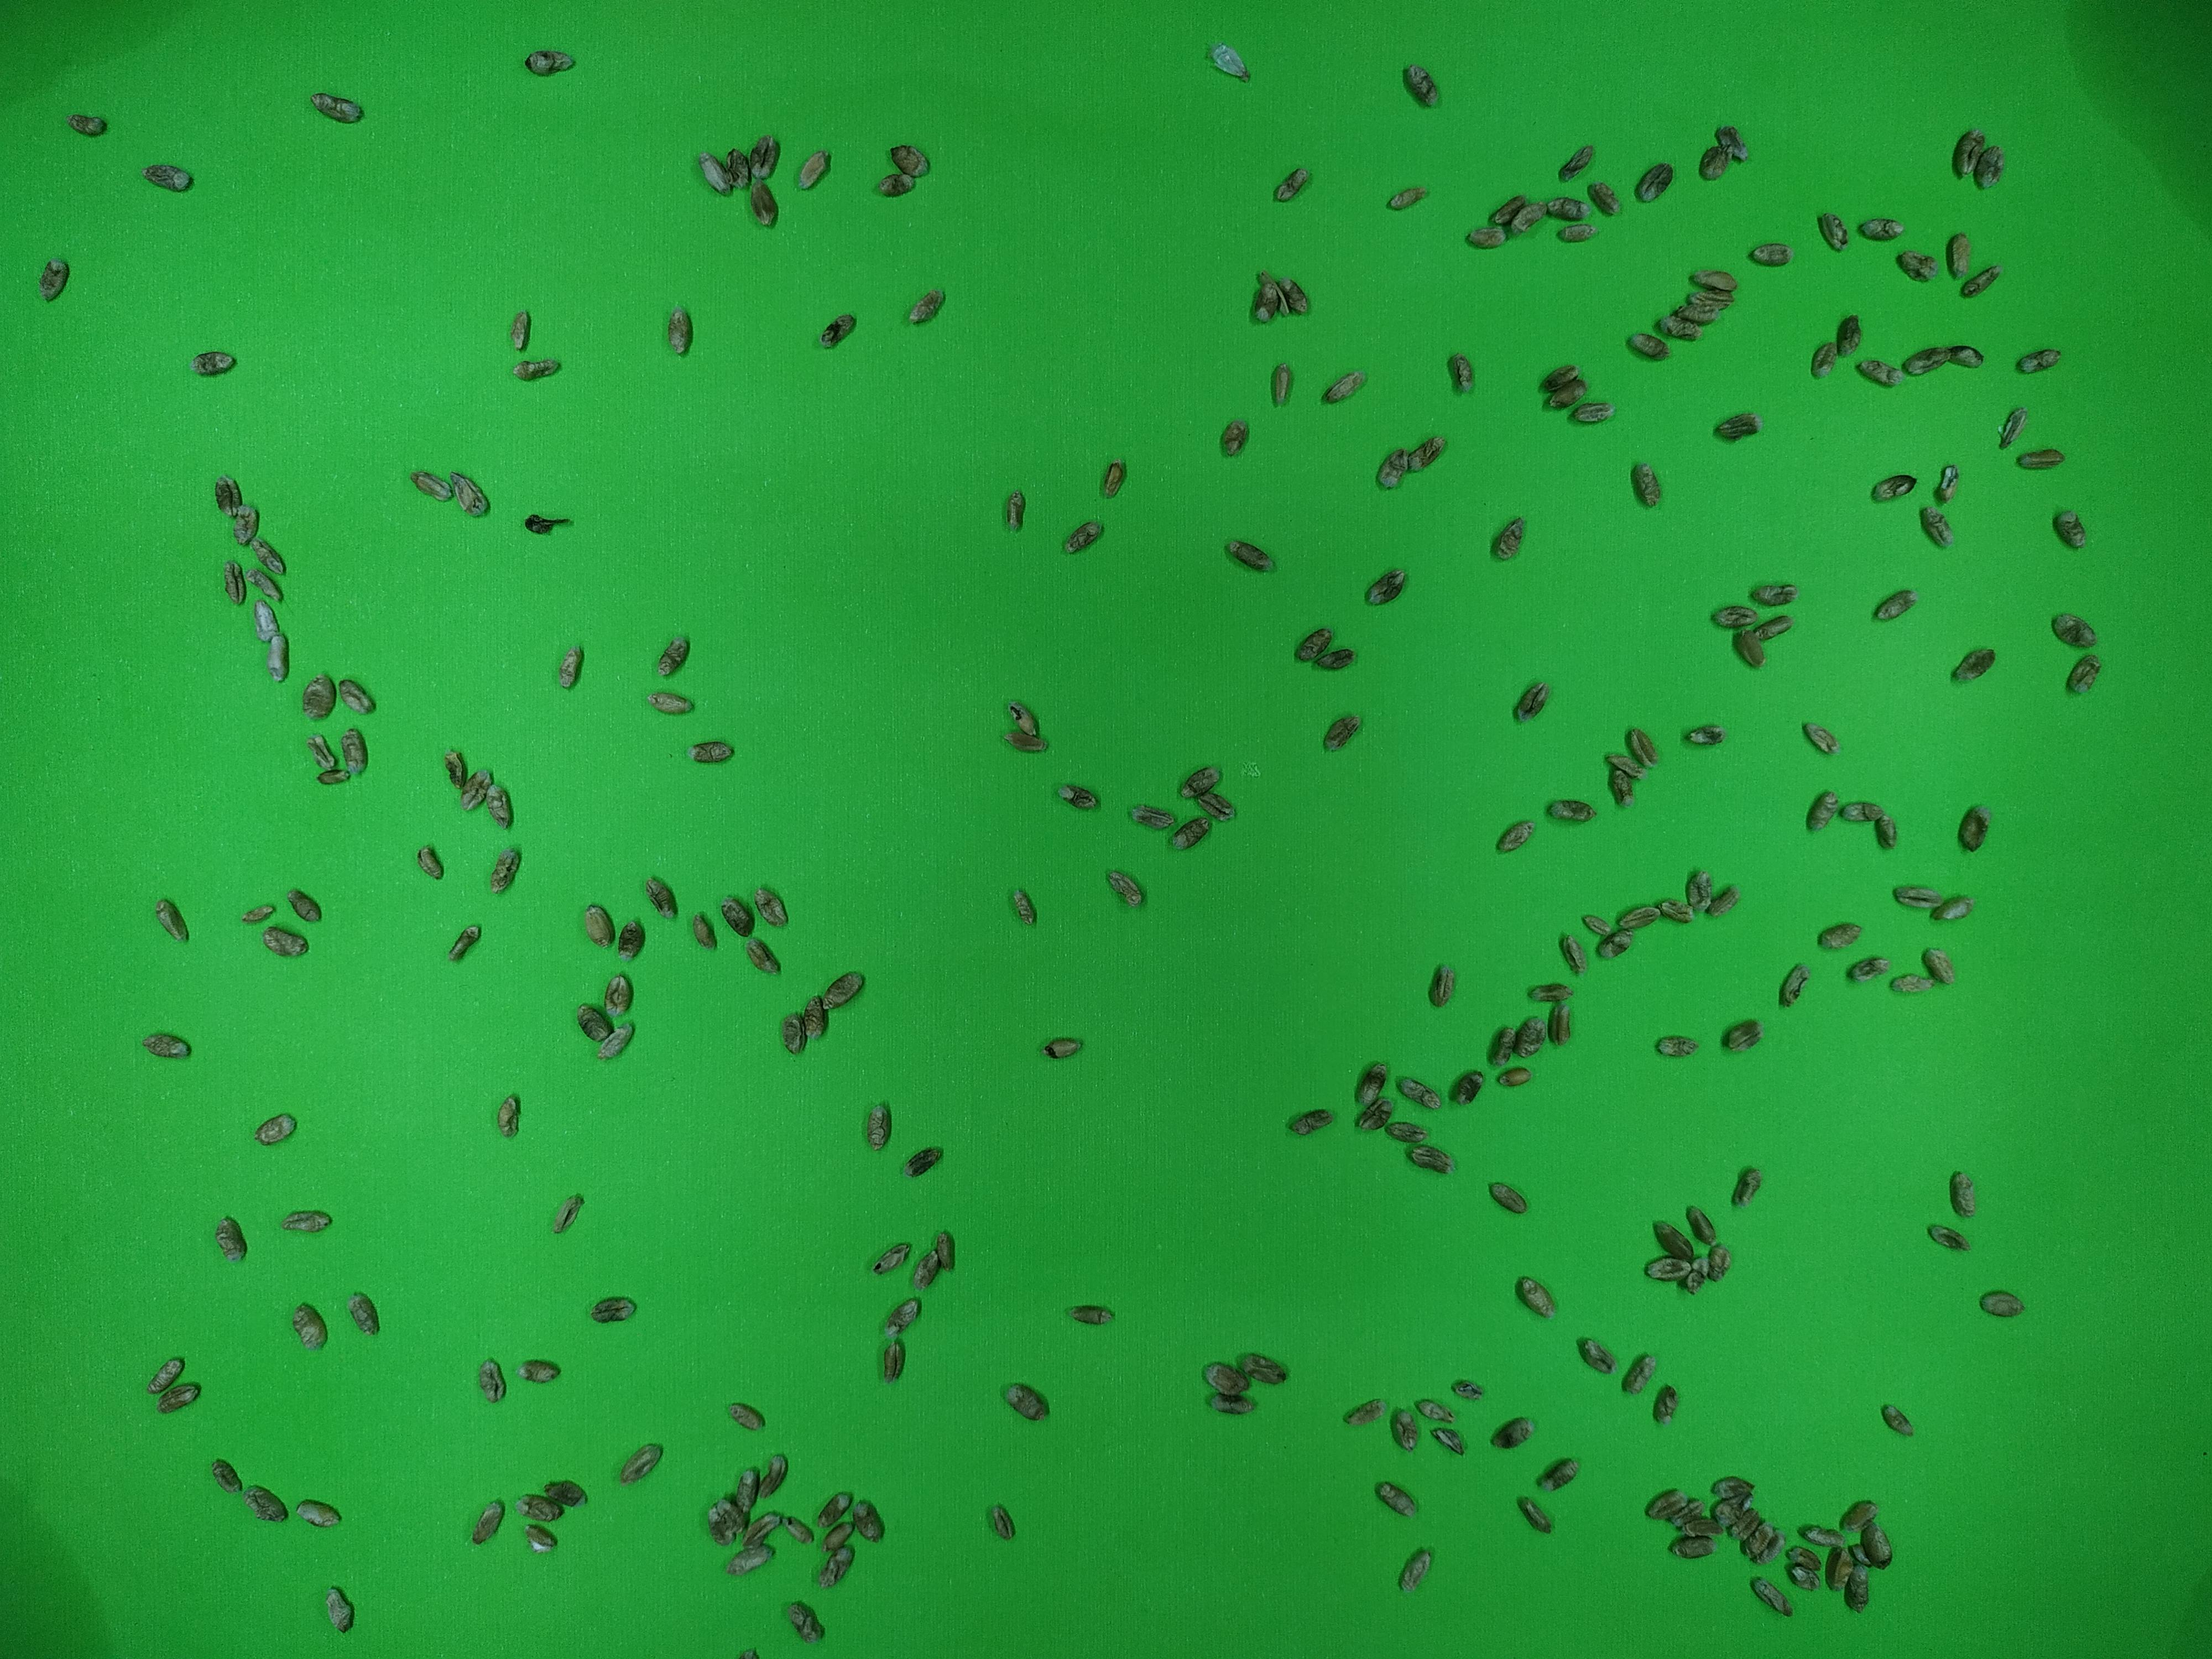danado: (1390, 1544, 1439, 1600), (1648, 1212, 1701, 1261), (448, 469, 494, 524), (1943, 1166, 1981, 1224), (1621, 1345, 1663, 1397), (699, 147, 739, 201), (1199, 1362, 1254, 1400), (904, 285, 947, 331), (722, 1544, 775, 1582), (1932, 889, 1980, 928), (338, 721, 373, 777), (1747, 1574, 1792, 1618), (310, 92, 366, 127), (1225, 539, 1278, 575), (1402, 1143, 1457, 1177), (1004, 1384, 1051, 1424), (1907, 344, 1958, 380), (1917, 945, 1958, 988), (1405, 65, 1444, 110), (1666, 300, 1705, 346), (1920, 506, 1957, 555), (1254, 273, 1286, 328), (573, 1003, 618, 1044), (1004, 886, 1041, 934), (819, 1540, 856, 1588), (346, 1288, 380, 1340), (596, 1017, 635, 1062), (215, 557, 252, 606), (1854, 1528, 1895, 1571), (777, 1010, 813, 1058), (1955, 803, 1990, 854), (524, 48, 579, 79), (1810, 211, 1851, 253), (750, 889, 794, 929), (1260, 360, 1296, 408), (212, 1218, 251, 1263), (291, 1305, 329, 1350), (1798, 716, 1838, 759), (1646, 1485, 1686, 1528), (512, 1490, 570, 1520), (1924, 1220, 1971, 1256), (1009, 703, 1040, 758), (304, 672, 337, 724), (517, 353, 568, 387), (1035, 1032, 1087, 1066), (1686, 865, 1721, 913), (408, 842, 450, 883), (1711, 123, 1750, 166), (1364, 568, 1411, 604), (1496, 513, 1531, 561), (1773, 967, 1811, 1010), (1635, 158, 1673, 201), (1240, 1351, 1286, 1386), (747, 135, 782, 181), (1788, 1544, 1822, 1592), (280, 1207, 336, 1236), (1425, 962, 1458, 1011), (487, 847, 521, 894), (885, 1295, 926, 1335), (1741, 1523, 1781, 1563), (1507, 1018, 1546, 1058), (334, 678, 375, 717), (251, 534, 289, 576), (1376, 448, 1411, 494), (1809, 787, 1843, 835), (157, 898, 193, 942), (1494, 817, 1534, 857), (1583, 179, 1623, 218), (1092, 458, 1130, 499), (1720, 1017, 1761, 1055), (713, 1498, 748, 1543), (745, 935, 779, 980), (39, 257, 71, 306), (1395, 1077, 1441, 1111), (2062, 655, 2101, 695), (816, 312, 857, 350), (873, 1341, 908, 1386), (212, 469, 246, 516), (982, 1503, 1019, 1545), (1386, 1406, 1420, 1452), (862, 1103, 894, 1151), (227, 501, 259, 549), (448, 919, 483, 963), (721, 896, 758, 937), (1873, 587, 1914, 624), (748, 180, 780, 229), (1545, 794, 1594, 826), (486, 778, 514, 833), (555, 1187, 586, 1236), (720, 149, 755, 192), (1172, 811, 1210, 851), (248, 1487, 289, 1525), (582, 900, 615, 947), (1887, 881, 1939, 910), (1203, 1390, 1261, 1416), (1856, 215, 1905, 246), (1275, 166, 1310, 209), (143, 161, 186, 196), (1224, 411, 1253, 463), (1625, 467, 1662, 508), (1733, 626, 1768, 667), (1562, 142, 1598, 183), (1711, 880, 1746, 922), (803, 990, 833, 1040), (1323, 712, 1358, 755), (62, 107, 111, 138), (1369, 1481, 1415, 1514), (556, 642, 586, 691), (251, 1114, 295, 1147), (727, 1399, 769, 1434), (615, 917, 648, 961), (471, 1504, 506, 1546), (1655, 1029, 1703, 1060), (887, 142, 925, 180), (872, 1240, 911, 1277), (1734, 1513, 1770, 1553), (1653, 1379, 1681, 1430), (2048, 512, 2084, 553), (1494, 1062, 1535, 1098), (1955, 646, 1996, 681), (1973, 142, 2006, 186), (1728, 1167, 1760, 1212), (1386, 182, 1431, 215), (1438, 354, 1476, 393), (825, 972, 863, 1009), (326, 1590, 357, 1635), (540, 1480, 586, 1512), (1843, 1496, 1878, 1537), (1298, 622, 1333, 662), (664, 308, 695, 354), (1707, 1474, 1754, 1504), (1067, 518, 1106, 554), (1727, 1503, 1764, 1541), (1492, 1415, 1532, 1450), (912, 1243, 942, 1290), (1711, 601, 1752, 635), (1623, 728, 1661, 765), (1108, 868, 1144, 907), (1545, 378, 1591, 408), (1276, 280, 1317, 315), (1892, 249, 1936, 281), (2049, 617, 2094, 648), (155, 1381, 202, 1411), (140, 1033, 190, 1061), (148, 1355, 185, 1392), (250, 567, 286, 605), (520, 1355, 562, 1388), (623, 1446, 662, 1481), (1290, 1104, 1333, 1136), (1943, 233, 1973, 278), (787, 1600, 819, 1644), (1548, 1000, 1579, 1044), (1428, 1426, 1472, 1457), (305, 735, 341, 773), (1642, 1255, 1695, 1280), (1683, 1206, 1718, 1245), (1719, 412, 1761, 444), (799, 149, 830, 193), (1544, 196, 1599, 220), (1999, 406, 2030, 450), (457, 769, 491, 809), (1357, 1095, 1391, 1135), (1826, 1546, 1858, 1588), (1933, 458, 1964, 501), (1855, 359, 1900, 389), (1513, 684, 1550, 720), (1518, 1281, 1554, 1318), (902, 1145, 944, 1177), (506, 305, 534, 353), (1514, 1499, 1552, 1533), (262, 927, 307, 957), (1561, 931, 1591, 975), (1953, 129, 1987, 168), (593, 1293, 633, 1327), (1185, 763, 1218, 802), (1320, 372, 1360, 405), (931, 1227, 959, 1273), (194, 348, 234, 381), (817, 1492, 850, 1532), (2018, 346, 2063, 375), (1540, 1456, 1578, 1490), (1490, 1026, 1524, 1065), (1069, 1298, 1111, 1329), (1384, 1118, 1431, 1146), (1756, 612, 1797, 644), (1627, 331, 1667, 363), (1672, 1531, 1711, 1564), (1570, 399, 1616, 427), (644, 878, 677, 916), (1605, 750, 1647, 781), (209, 1457, 242, 1496), (441, 747, 470, 791), (1682, 722, 1727, 750), (853, 1501, 884, 1543), (1410, 1394, 1457, 1421), (1841, 1575, 1875, 1612), (1698, 1243, 1733, 1280), (1131, 805, 1177, 832), (1876, 469, 1917, 500), (295, 1500, 342, 1527), (1450, 1067, 1480, 1109), (741, 1512, 773, 1551), (1573, 1342, 1613, 1374), (1837, 311, 1864, 357), (494, 1093, 521, 1140), (1407, 437, 1445, 471), (1747, 239, 1792, 267), (1525, 981, 1579, 1004), (876, 170, 915, 202), (1686, 267, 1740, 290), (1358, 1061, 1387, 1103), (1607, 766, 1631, 817), (2016, 448, 2069, 471), (252, 601, 280, 644), (1313, 644, 1359, 671), (755, 1458, 787, 1496), (649, 690, 692, 718), (688, 738, 732, 766), (268, 633, 291, 686), (1839, 799, 1892, 821), (409, 468, 448, 499), (731, 1473, 765, 1508), (1943, 346, 1990, 371), (1799, 1524, 1852, 1546), (1959, 269, 2000, 298), (1199, 787, 1233, 823), (1711, 1498, 1757, 1524), (288, 887, 321, 923), (1655, 895, 1697, 924), (476, 1361, 504, 1404), (606, 973, 634, 1015), (1846, 956, 1892, 981), (1809, 341, 1840, 380), (1815, 922, 1859, 949), (1062, 782, 1098, 815), (1344, 1400, 1386, 1427), (658, 638, 688, 676), (525, 1522, 559, 1556), (1462, 225, 1509, 249), (1668, 1498, 1707, 1527), (1595, 932, 1633, 962), (1701, 142, 1729, 182), (780, 1510, 813, 1544), (1487, 1183, 1527, 1211), (1751, 582, 1794, 608), (1614, 905, 1658, 930), (1494, 192, 1527, 225), (1512, 202, 1543, 237), (1879, 1405, 1914, 1436), (1978, 1293, 2023, 1317), (1884, 975, 1934, 997), (822, 1519, 854, 1552), (1559, 222, 1604, 246), (239, 901, 282, 924), (1447, 1377, 1488, 1401), (691, 914, 719, 947), (1686, 1259, 1711, 1295), (1547, 363, 1582, 388), (1578, 910, 1613, 936), (1005, 488, 1023, 535), (1689, 290, 1739, 305), (1879, 812, 1896, 849), (317, 770, 354, 786)
impureza: (1207, 40, 1253, 84), (522, 512, 578, 538)
